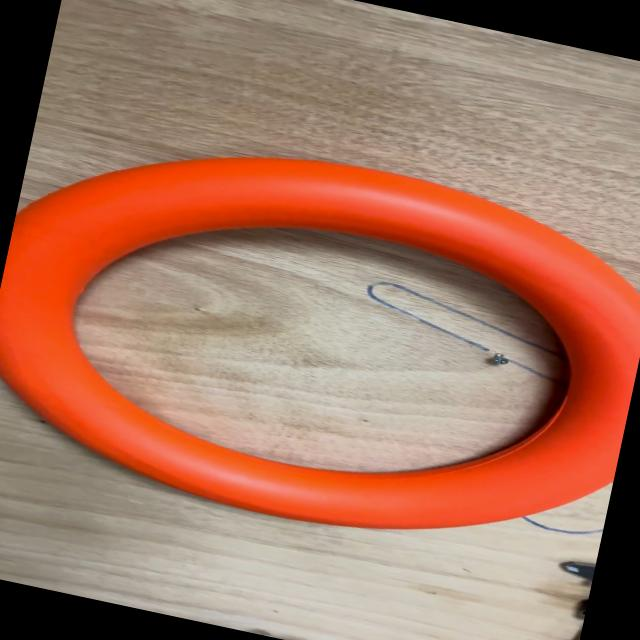note: (0, 96, 640, 584)
